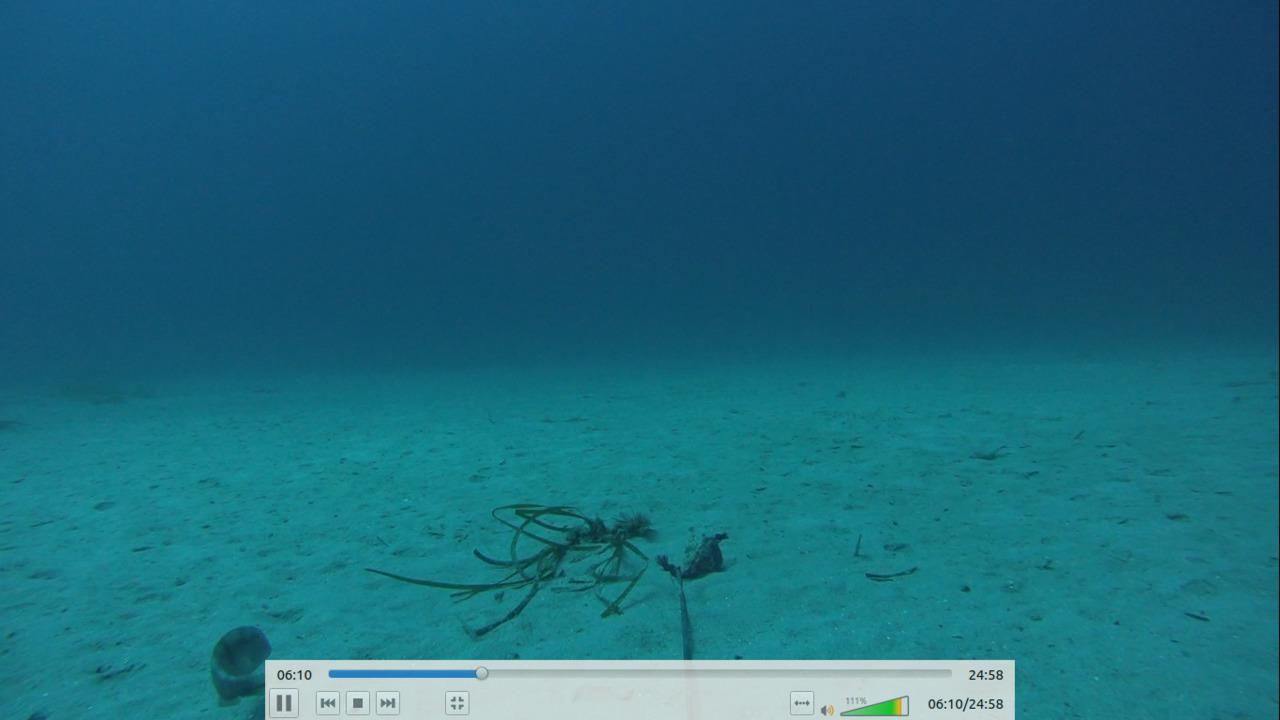raor: (198, 616, 265, 695)
